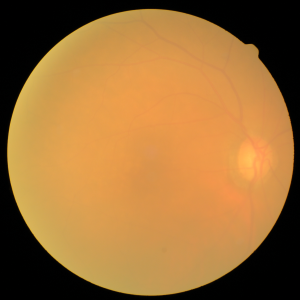cataract: (85, 103, 277, 203)
